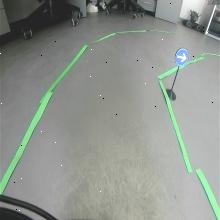right: (174, 48, 189, 66)
